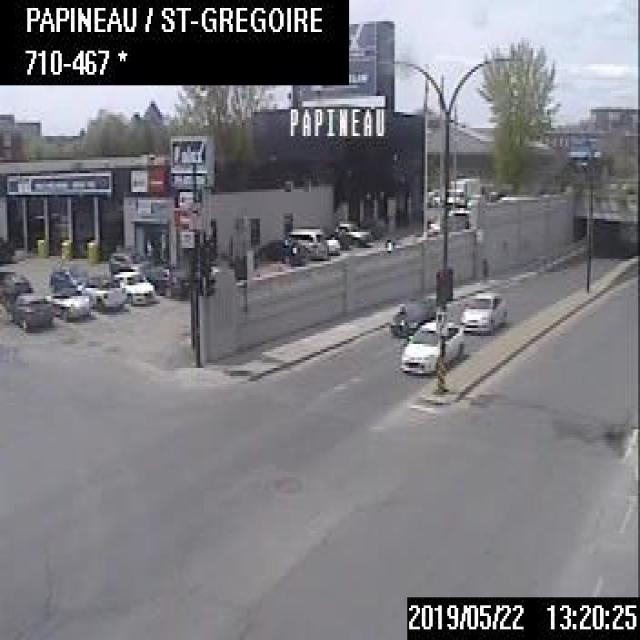vehicle: (398, 313, 463, 373), (388, 291, 438, 337), (460, 288, 508, 334), (76, 273, 125, 315), (109, 267, 158, 308), (8, 288, 52, 332), (43, 282, 92, 320), (282, 224, 327, 262), (444, 172, 481, 210), (255, 234, 304, 261), (48, 265, 90, 293), (148, 265, 183, 297), (0, 272, 31, 307), (333, 219, 369, 244), (107, 249, 145, 271)
